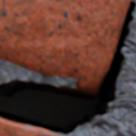brick: (0, 0, 130, 78), (0, 119, 62, 135)
crack: (0, 1, 135, 135)
